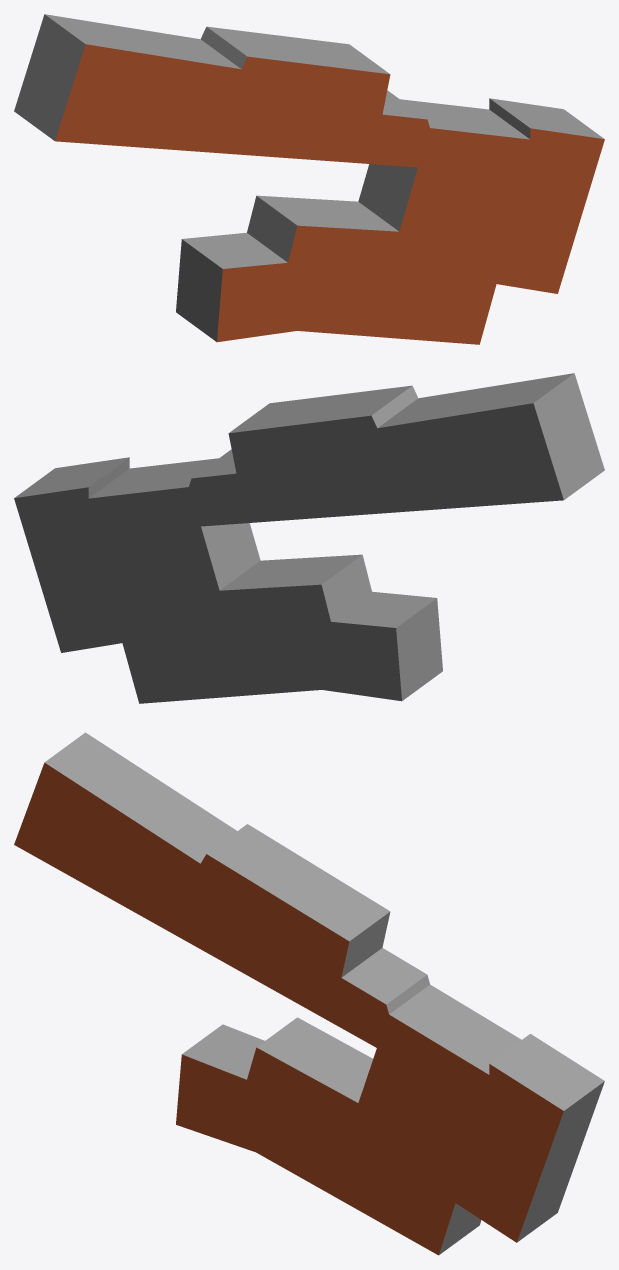
File: construction_5374_assumed_A_Casa_h6m.obj
3 renders of one model, top to bottom at view 1: azimuth 30°, elevation 25°; view 2: azimuth 150°, elevation 25°; view 3: azimuth 330°, elevation 25°, orthographic.
Visible parts, largest first — view 1: construction_5374_assumed_A_Casa; view 2: construction_5374_assumed_A_Casa; view 3: construction_5374_assumed_A_Casa.
Part boxes in pixels (x1,y1,x2,y2): construction_5374_assumed_A_Casa: (14,14,604,344); construction_5374_assumed_A_Casa: (14,373,604,703); construction_5374_assumed_A_Casa: (14,732,604,1255).
Size of the model in its own units: 46.4 by 32 by 6.
